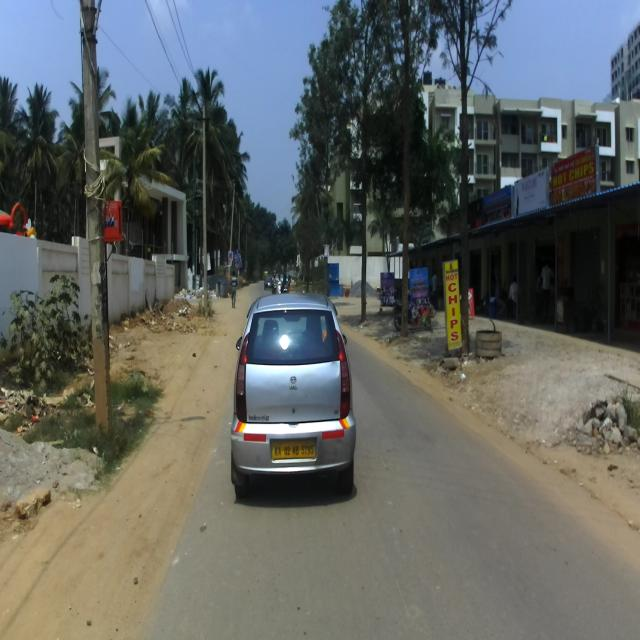car ahead at: (228, 289, 360, 505)
electric pole ahead at: (69, 0, 122, 445)
